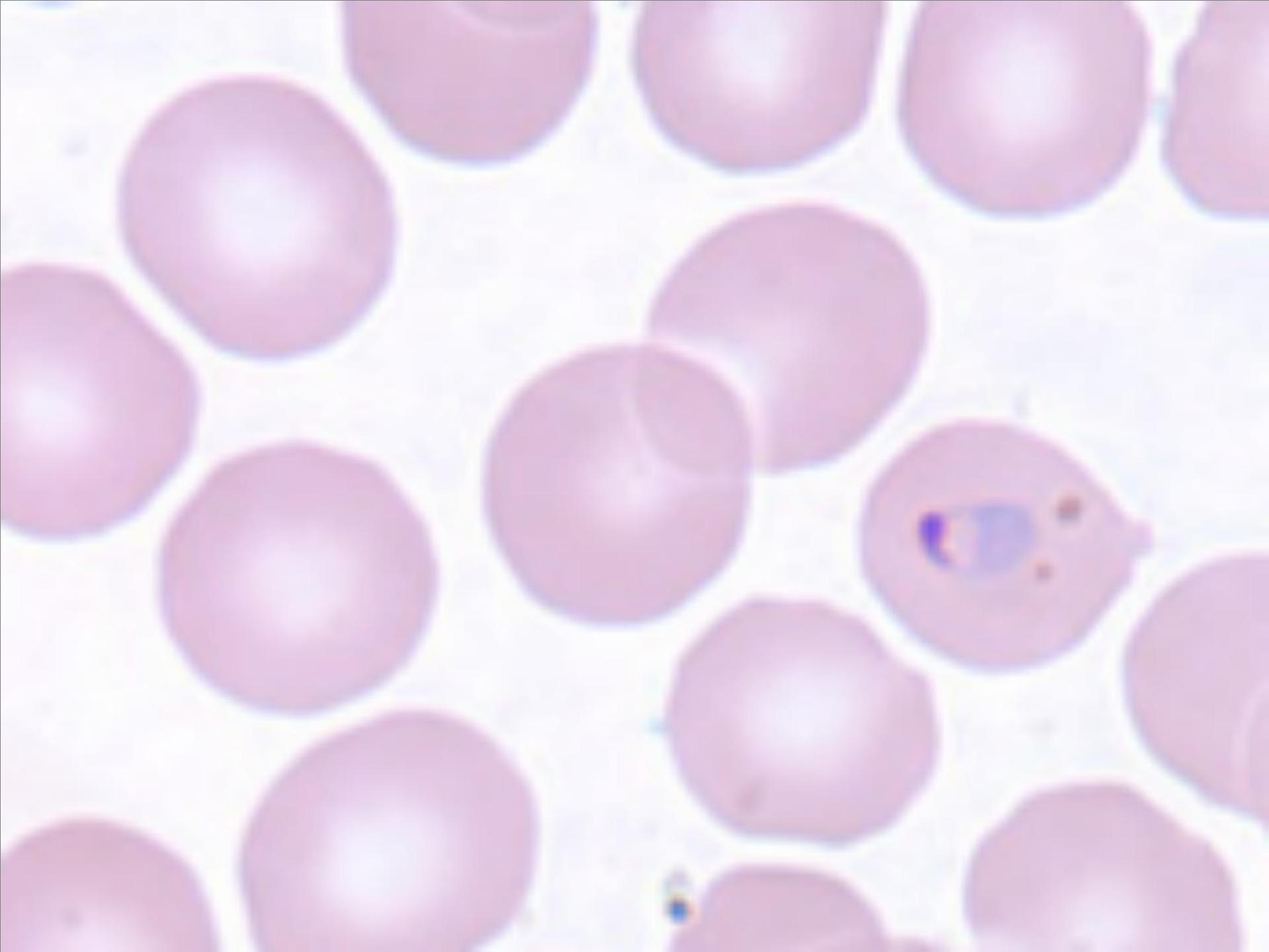Infected: (861, 418, 1141, 673)
Uninfected: (639, 204, 931, 479), (117, 70, 397, 354), (482, 339, 750, 626), (157, 444, 437, 714), (233, 713, 537, 952), (668, 595, 939, 843), (0, 261, 200, 533), (904, 0, 1151, 209), (962, 779, 1247, 952), (623, 0, 881, 173), (1122, 546, 1269, 827), (339, 0, 594, 160)
